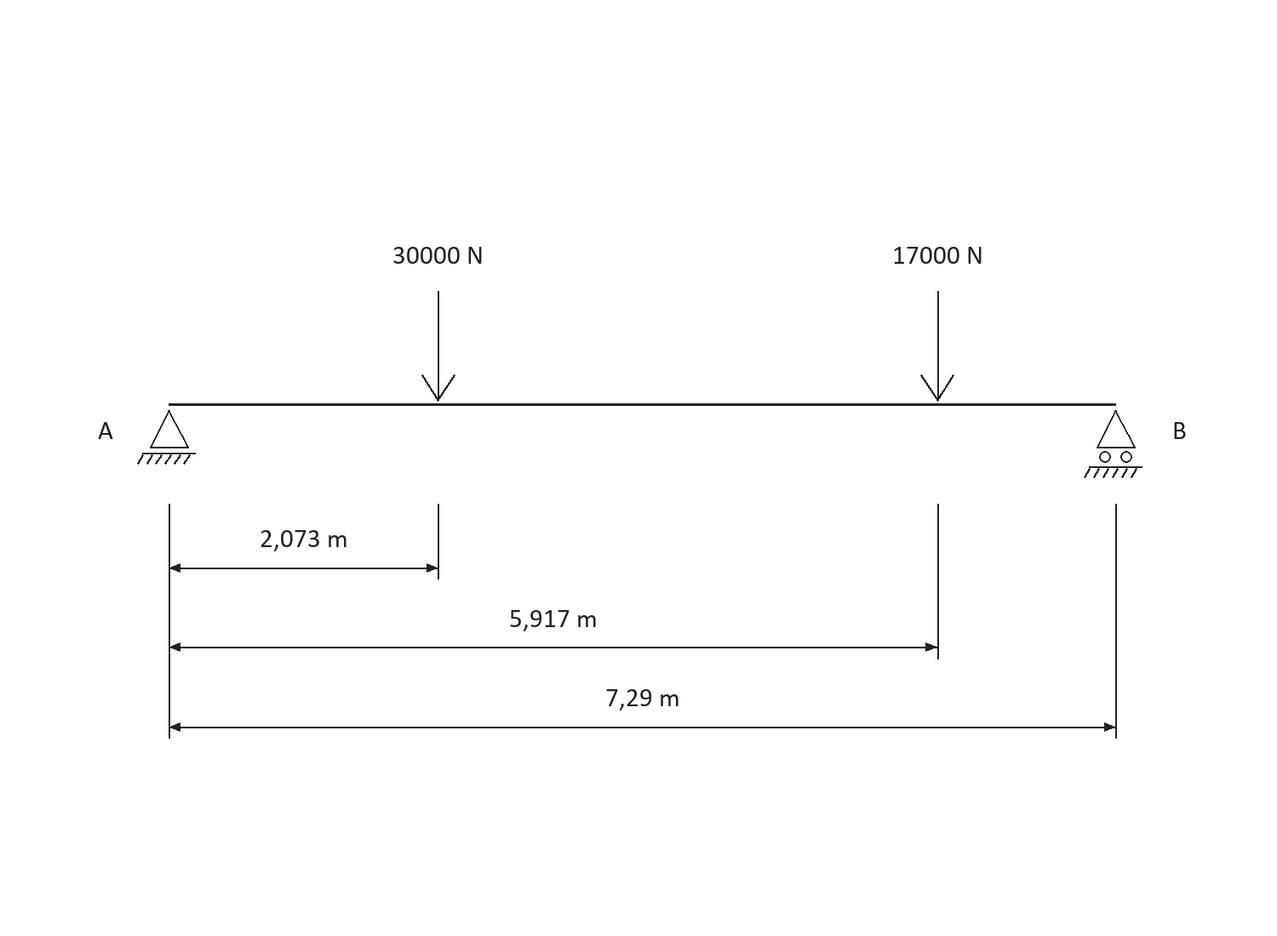pin_support: (137, 410, 196, 465)
point_load: (421, 291, 455, 402), (920, 291, 954, 402)
roller_support: (1084, 410, 1142, 478)
